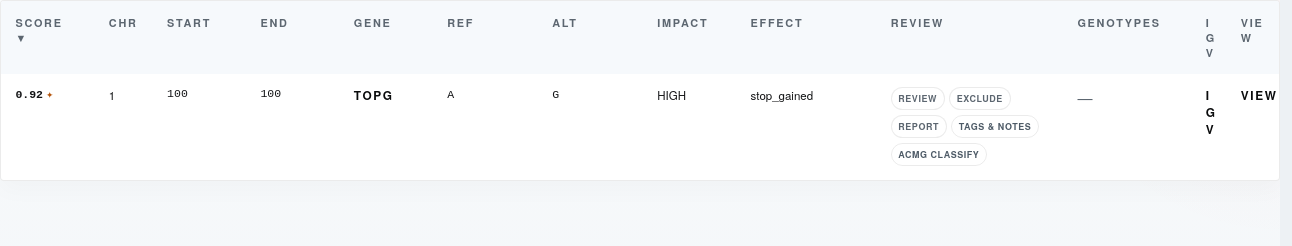
Test: SmallVariantTable › reveals the priority breakdown in a popover on score hover
This screenshot has width=1292, height=246.
Hover over the button named "priority score 0.92".
mouse_move(34, 94)  # box [15, 87, 53, 101]
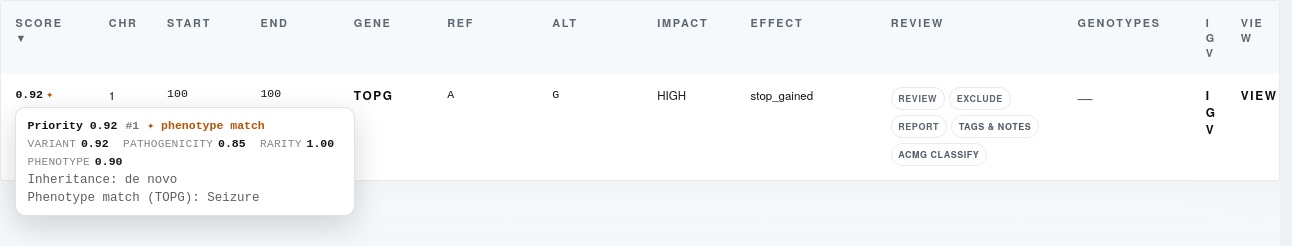
Now the tooltip shows "Priority 0.92", box [15, 107, 355, 216]
Now the tooltip shows "Inheritance: de novo", box [15, 107, 355, 216]
Now the tooltip shows "Seizure", box [207, 191, 260, 205]
